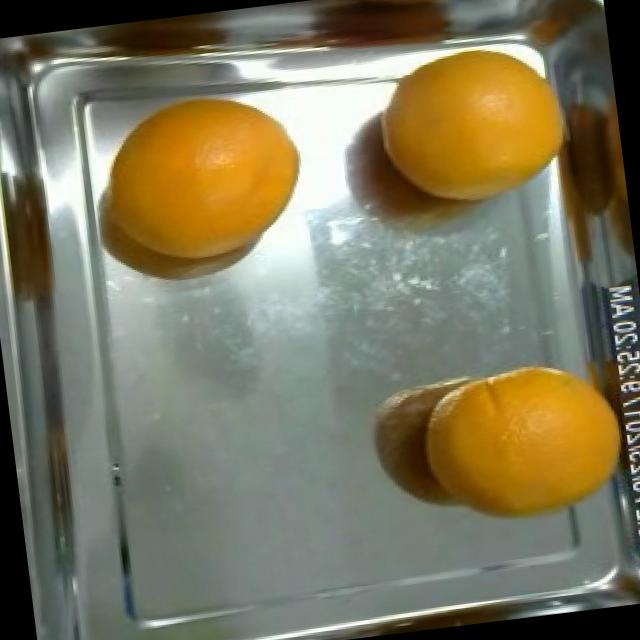Fruit: (353, 35, 599, 236)
